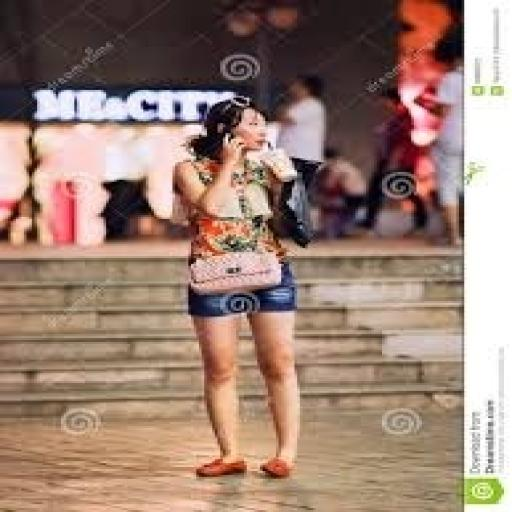calling: (167, 94, 313, 479)
